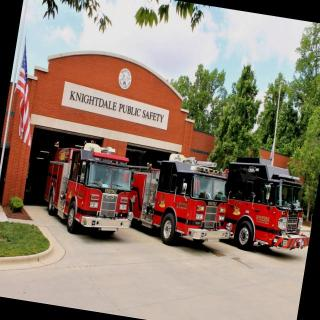Fire_truck: (118, 145, 244, 255), (39, 133, 144, 243), (213, 153, 319, 260)
